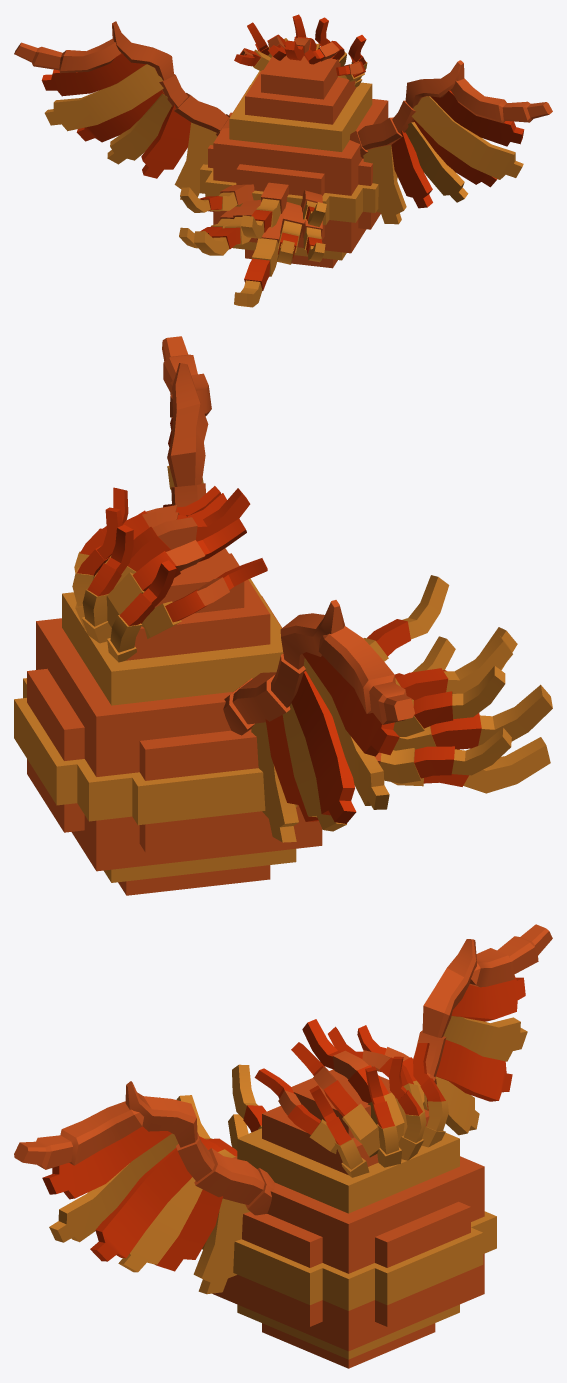
Rendered from egg_z07_03.glb.
3 views of the same model, one above another, from view 1: azimuth 30°, elevation 25°; view 2: azimuth 150°, elevation 25°; view 3: azimuth 270°, elevation 25° (orthographic). The views are drawn at different scales.
Parts seen in each view (by area): view 1: egg035; view 2: egg035; view 3: egg035.
Part boxes in pixels (x1,y1,x2,y2): egg035: (14, 14, 552, 307); egg035: (14, 336, 552, 895); egg035: (14, 924, 552, 1368).
Size of the model in its own units: 2.87 by 1.77 by 2.87.
3 materials, 3 textured.
